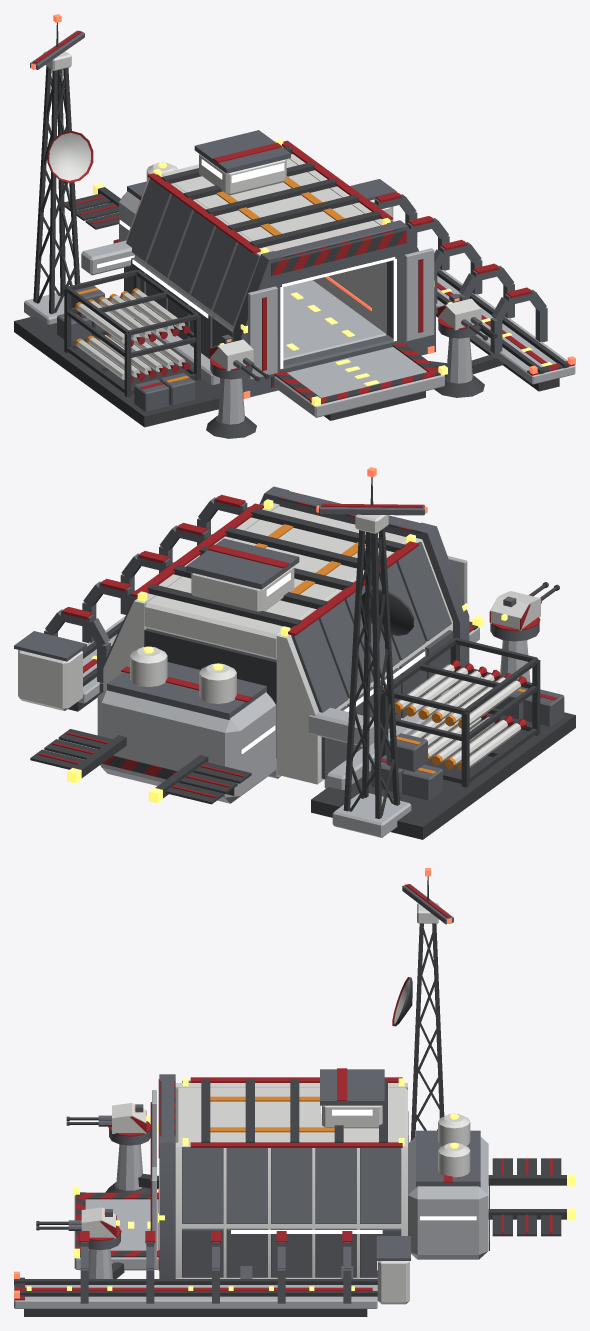
Rendered from mercenary_outpost.glb.
3 renders of one model, top to bottom at view 1: azimuth 30°, elevation 25°; view 2: azimuth 150°, elevation 25°; view 3: azimuth 270°, elevation 25°, orthographic. The views are drawn at different scales.
Visible parts, largest first — view 1: merc_hangar, merc_structure, merc_rail, merc_turrets; view 2: merc_structure, merc_hangar, merc_rail, merc_turrets; view 3: merc_hangar, merc_structure, merc_rail, merc_turrets.
Boxes of the visible parts, x1=… form: merc_hangar: x1=124, y1=130, x2=447, y2=420; merc_structure: x1=14, y1=14, x2=220, y2=427; merc_rail: x1=350, y1=179, x2=575, y2=391; merc_turrets: x1=206, y1=293, x2=503, y2=438; merc_structure: x1=30, y1=467, x2=575, y2=839; merc_hangar: x1=103, y1=486, x2=483, y2=784; merc_rail: x1=14, y1=494, x2=250, y2=711; merc_turrets: x1=448, y1=582, x2=559, y2=694; merc_hangar: x1=73, y1=1068, x2=407, y2=1278; merc_structure: x1=392, y1=868, x2=575, y2=1259; merc_rail: x1=14, y1=1231, x2=410, y2=1316; merc_turrets: x1=36, y1=1103, x2=158, y2=1278.
Size of the model in its own units: 41.55 by 34.1 by 55.65.
